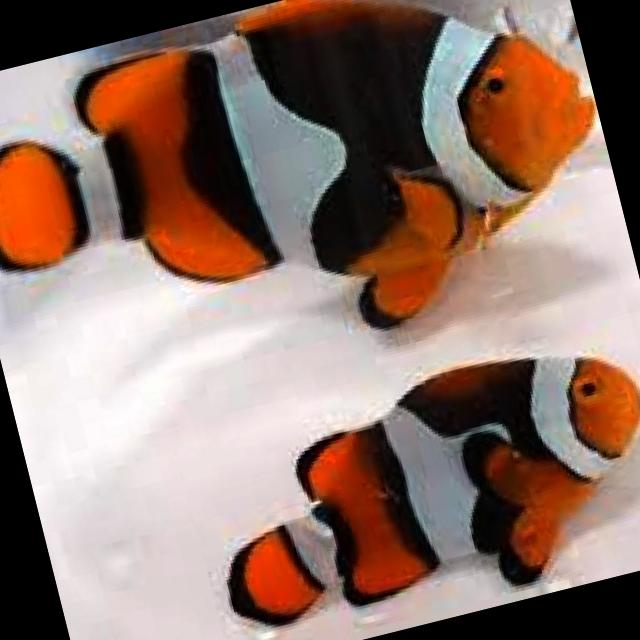ClownFish: (0, 0, 633, 421), (181, 324, 640, 640)
